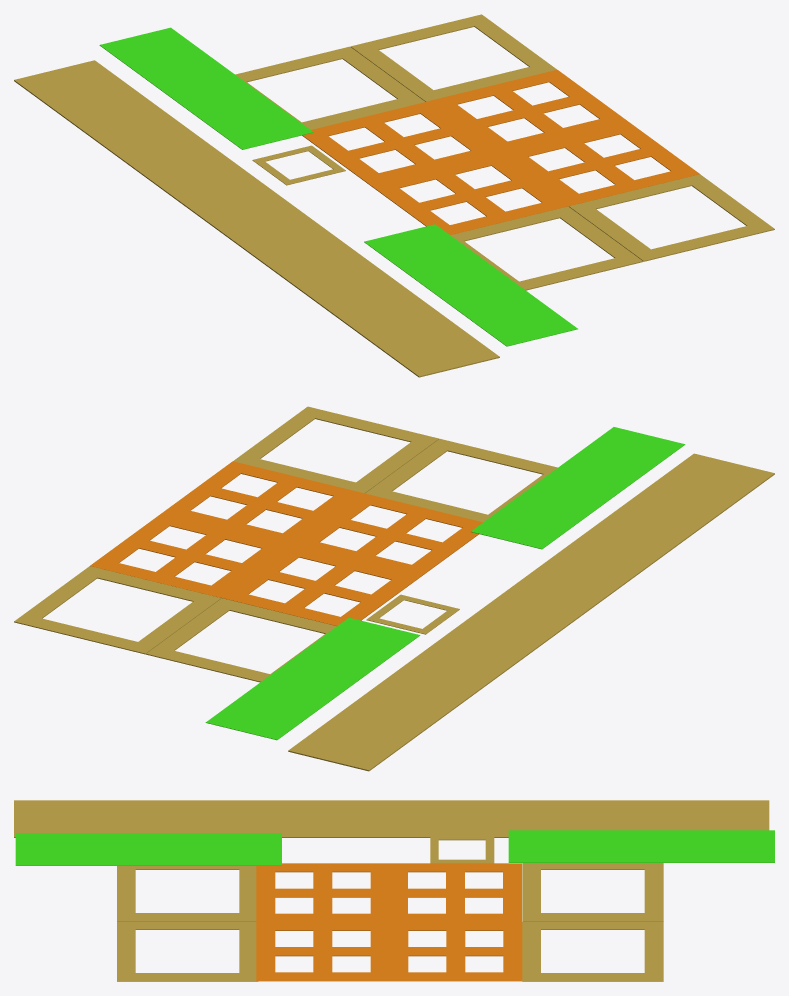
Rendered from RuasBase.fbx.
3 views of the same model, one above another, from view 1: azimuth 30°, elevation 25°; view 2: azimuth 150°, elevation 25°; view 3: azimuth 270°, elevation 25° (orthographic). The views are drawn at different scales.
Visible parts, largest first — view 1: Plane.011, Plane.007, Plane.017, Plane.001, Plane.002, Plane.003, Plane.010, Plane.004, Plane.012, Plane.005, Plane.013, Plane.009; view 2: Plane.011, Plane.017, Plane.007, Plane.003, Plane.002, Plane.001, Plane.010, Plane.012, Plane.004, Plane.005, Plane.013, Plane.009; view 3: Plane.011, Plane.017, Plane.007, Plane.002, Plane.003, Plane.001, Plane.010, Plane.012, Plane.004, Plane.013, Plane.005, Plane.009.
Part boxes in pixels (left/top/right/bottom): Plane.011: left=14, top=60, right=499, bottom=377; Plane.007: left=99, top=27, right=313, bottom=149; Plane.017: left=364, top=224, right=577, bottom=346; Plane.001: left=302, top=101, right=499, bottom=185; Plane.002: left=500, top=122, right=699, bottom=205; Plane.003: left=428, top=69, right=628, bottom=153; Plane.010: left=370, top=153, right=570, bottom=234; Plane.004: left=569, top=174, right=774, bottom=261; Plane.012: left=350, top=14, right=556, bottom=101; Plane.005: left=450, top=206, right=642, bottom=290; Plane.013: left=235, top=46, right=424, bottom=129; Plane.009: left=252, top=145, right=345, bottom=185; Plane.011: left=288, top=453, right=774, bottom=771; Plane.017: left=471, top=427, right=685, bottom=549; Plane.007: left=205, top=617, right=420, bottom=740; Plane.003: left=90, top=513, right=290, bottom=597; Plane.002: left=161, top=461, right=361, bottom=544; Plane.001: left=219, top=545, right=420, bottom=625; Plane.010: left=291, top=493, right=482, bottom=576; Plane.012: left=14, top=566, right=221, bottom=654; Plane.004: left=233, top=406, right=438, bottom=493; Plane.005: left=365, top=439, right=557, bottom=522; Plane.013: left=146, top=598, right=336, bottom=682; Plane.009: left=366, top=594, right=459, bottom=634; Plane.011: left=14, top=800, right=769, bottom=837; Plane.017: left=15, top=833, right=281, bottom=865; Plane.007: left=508, top=830, right=774, bottom=862; Plane.002: left=256, top=922, right=389, bottom=981; Plane.003: left=389, top=922, right=522, bottom=981; Plane.001: left=389, top=863, right=521, bottom=922; Plane.010: left=256, top=863, right=388, bottom=922; Plane.012: left=522, top=921, right=663, bottom=981; Plane.004: left=117, top=921, right=257, bottom=981; Plane.013: left=522, top=863, right=663, bottom=921; Plane.005: left=117, top=866, right=256, bottom=921; Plane.009: left=430, top=836, right=494, bottom=863.
Size of the model in its own units: 6736 by 191 by 11583.
